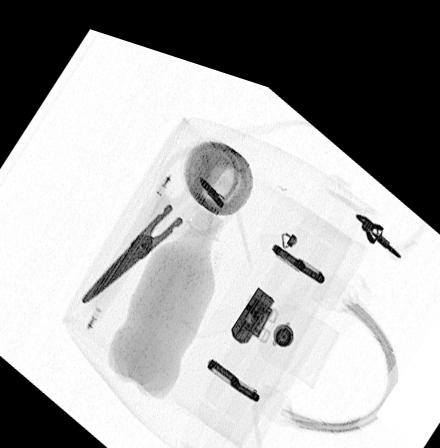Scissors: (79, 129, 237, 305)
